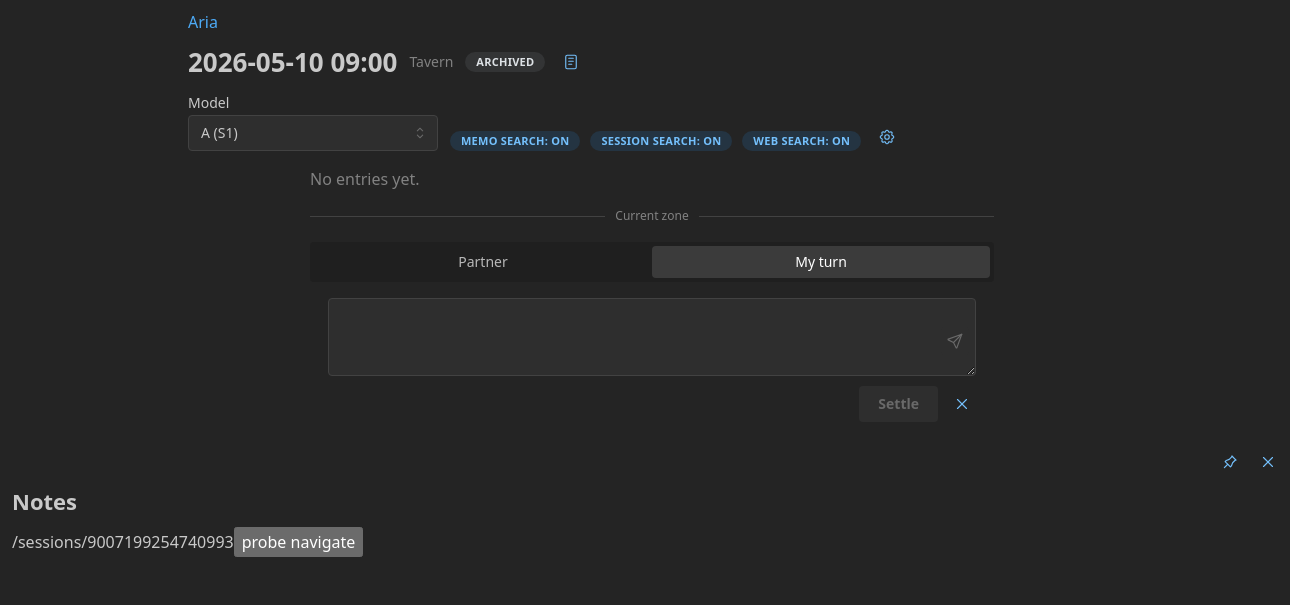
013 step 007 — the session screen mounts the stream (US-125.AC-1, R6, D13) › an archived session shows the Archived badge and a working stream whose composer enables Send and Settle — DoD-7
Expected: the text "Archived" is shown, [476, 53, 534, 71]
Expected: the text "No entries yet." is shown, [310, 168, 420, 190]
Type "Still writing here." into the text box named "Composer" at (652, 337), box [328, 298, 976, 376]
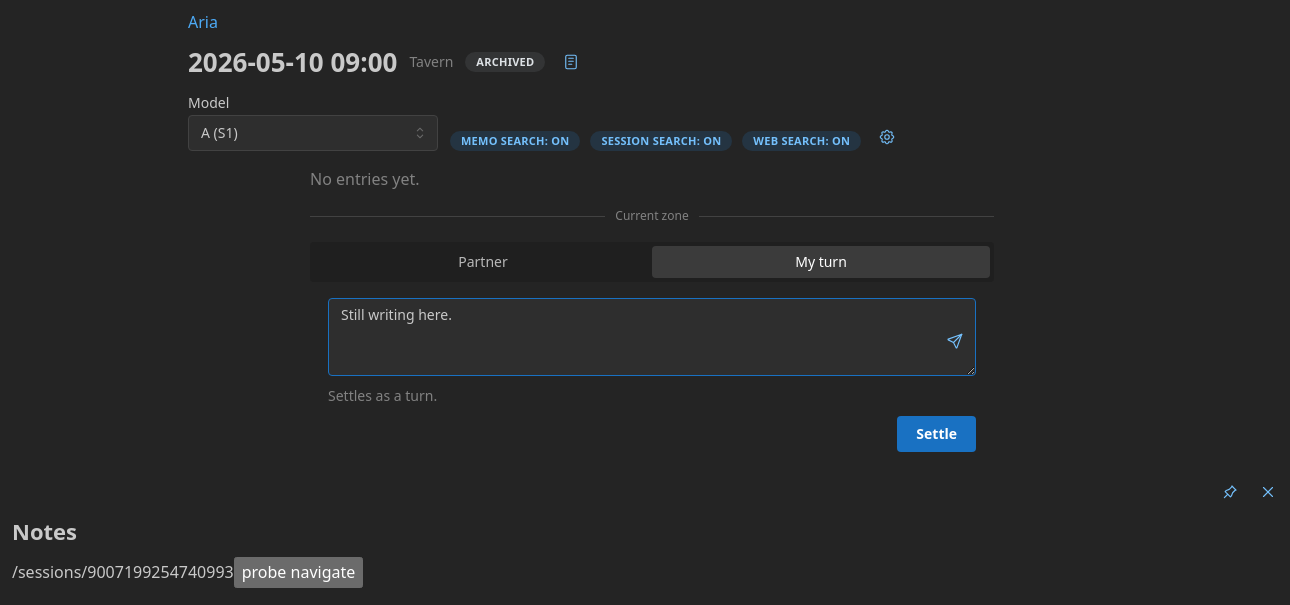
Expected: the button named "Send" is enabled, [941, 327, 969, 355]
Expected: the button "Settle" is enabled, [897, 416, 976, 452]
